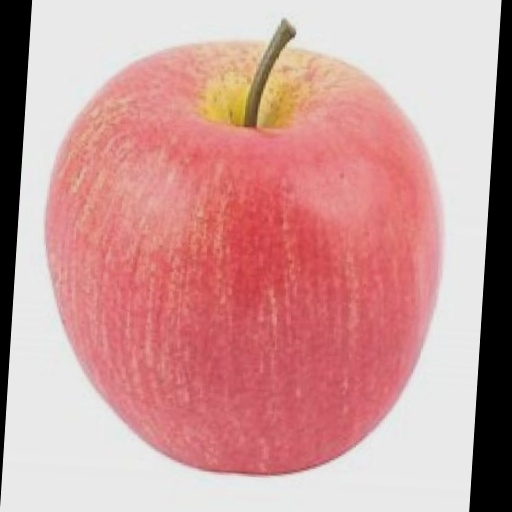fruit: (46, 43, 440, 473)
